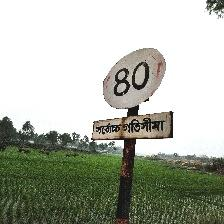Speed-limit: (95, 46, 171, 142)
